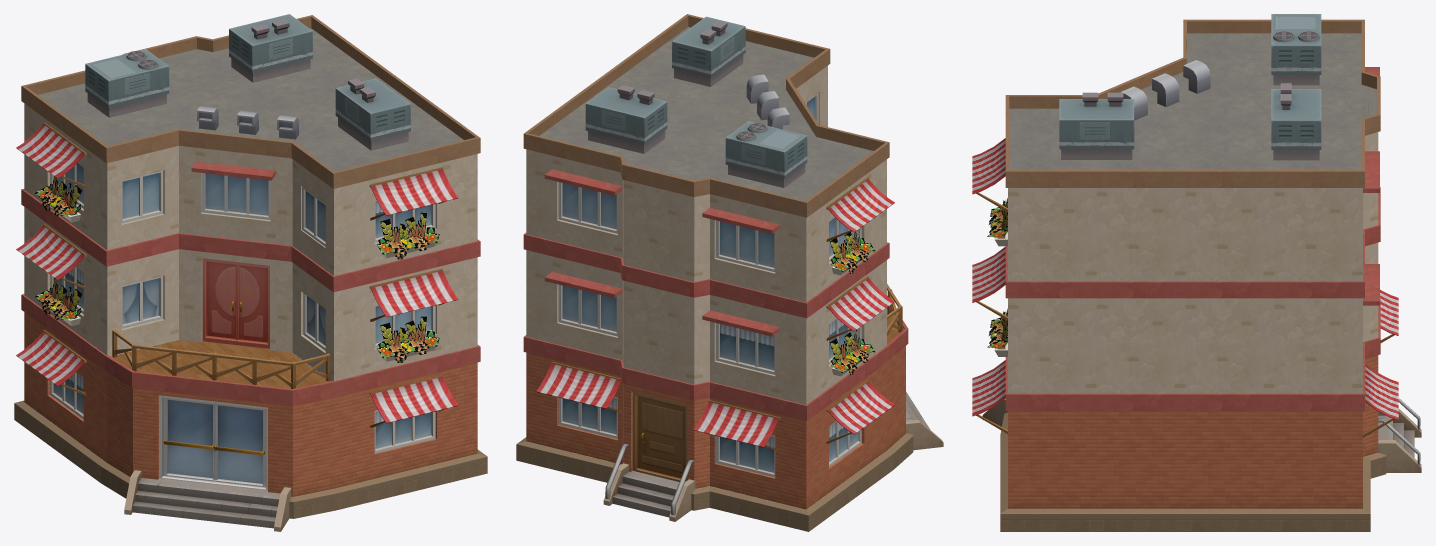
The model's file is Building_4-transformed.glb.
3 renders of one model, left to right at view 1: azimuth 30°, elevation 25°; view 2: azimuth 150°, elevation 25°; view 3: azimuth 270°, elevation 25°, orthographic. The views are drawn at different scales.
Visible parts, largest first — view 1: Building_4_Walls_2; view 2: Building_4_Walls_2; view 3: Building_4_Walls_2.
Part boxes in pixels (x1,y1,x2,y2): Building_4_Walls_2: [14, 14, 487, 531]; Building_4_Walls_2: [516, 14, 943, 531]; Building_4_Walls_2: [972, 14, 1421, 531].
Bounding box in the file's own units: 8.98 × 9.86 × 10.13.
Materials: 14 (14 with a texture image).
